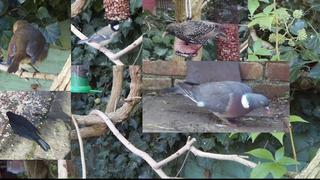blackbird: (6, 111, 51, 152)
great tit: (76, 20, 122, 54)
robin: (6, 20, 51, 79)
starling: (162, 20, 228, 45)
wood pigeon: (162, 81, 270, 128)
